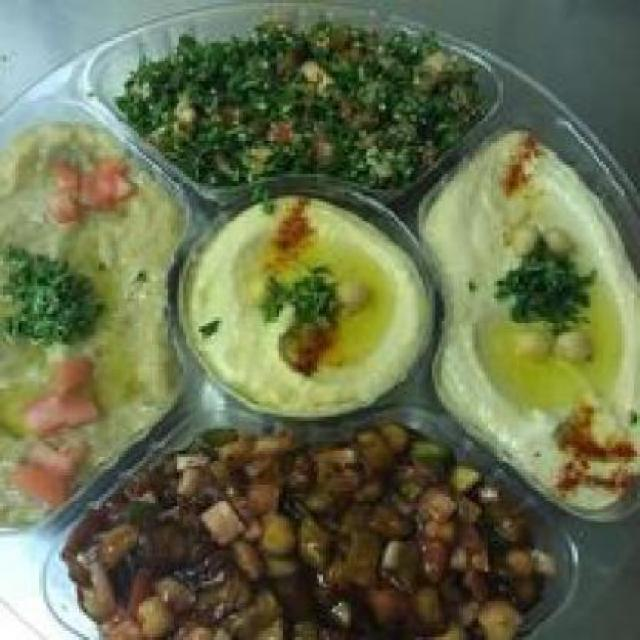eggplant: (59, 410, 541, 638)
